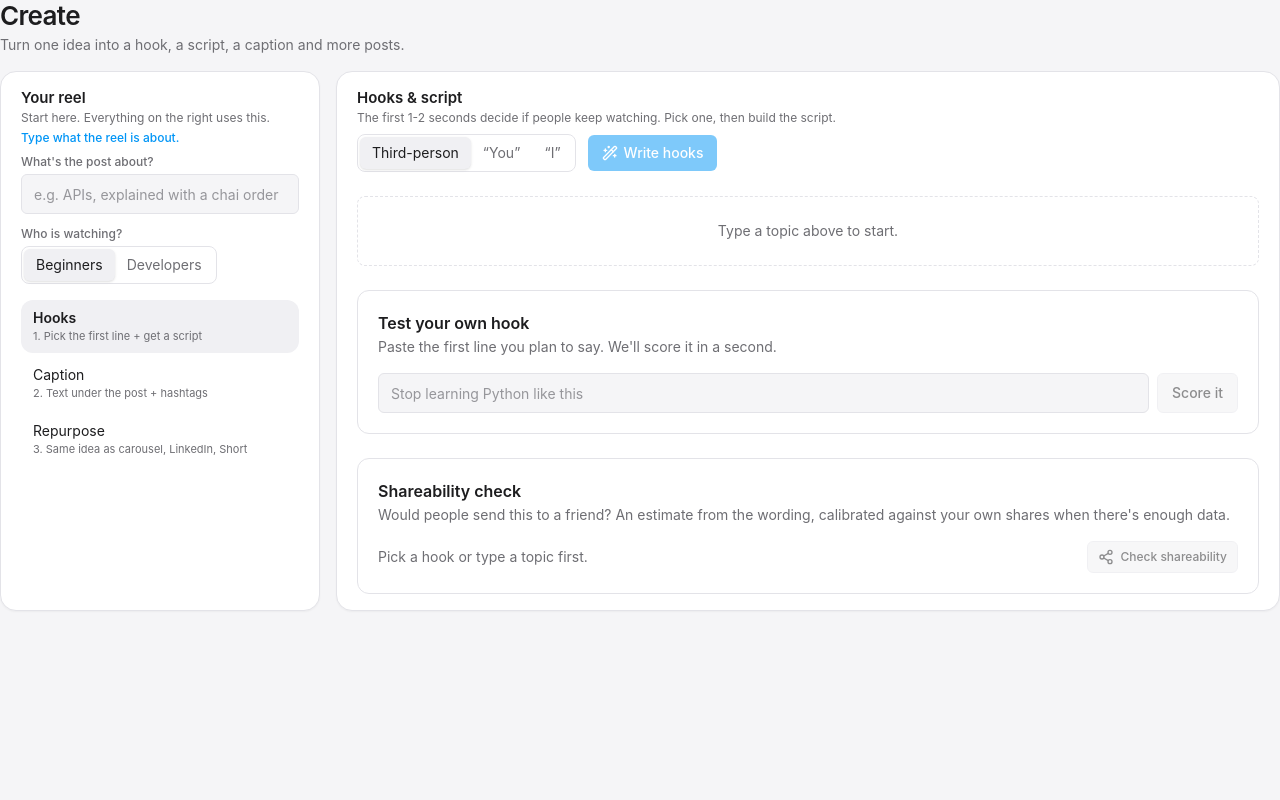
it: Create › renders hooks sorted by score; 'Use this' sets the hook used by Caption
The width and height of the screenshot is (1280, 800).
In the field labelled "What's the post about?": [160, 194] box [21,174,299,214], type "APIs"
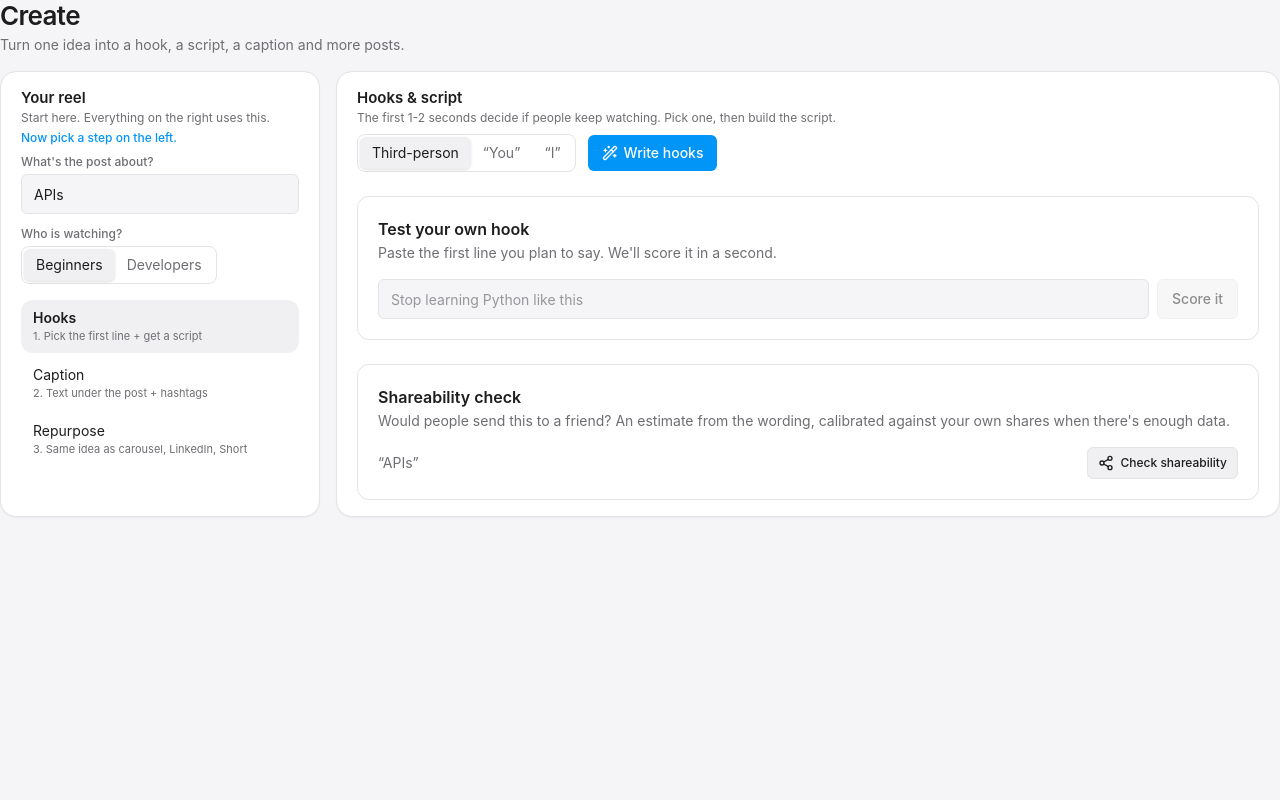
Click the button "Write hooks": [653, 153] box [588,135,718,171]
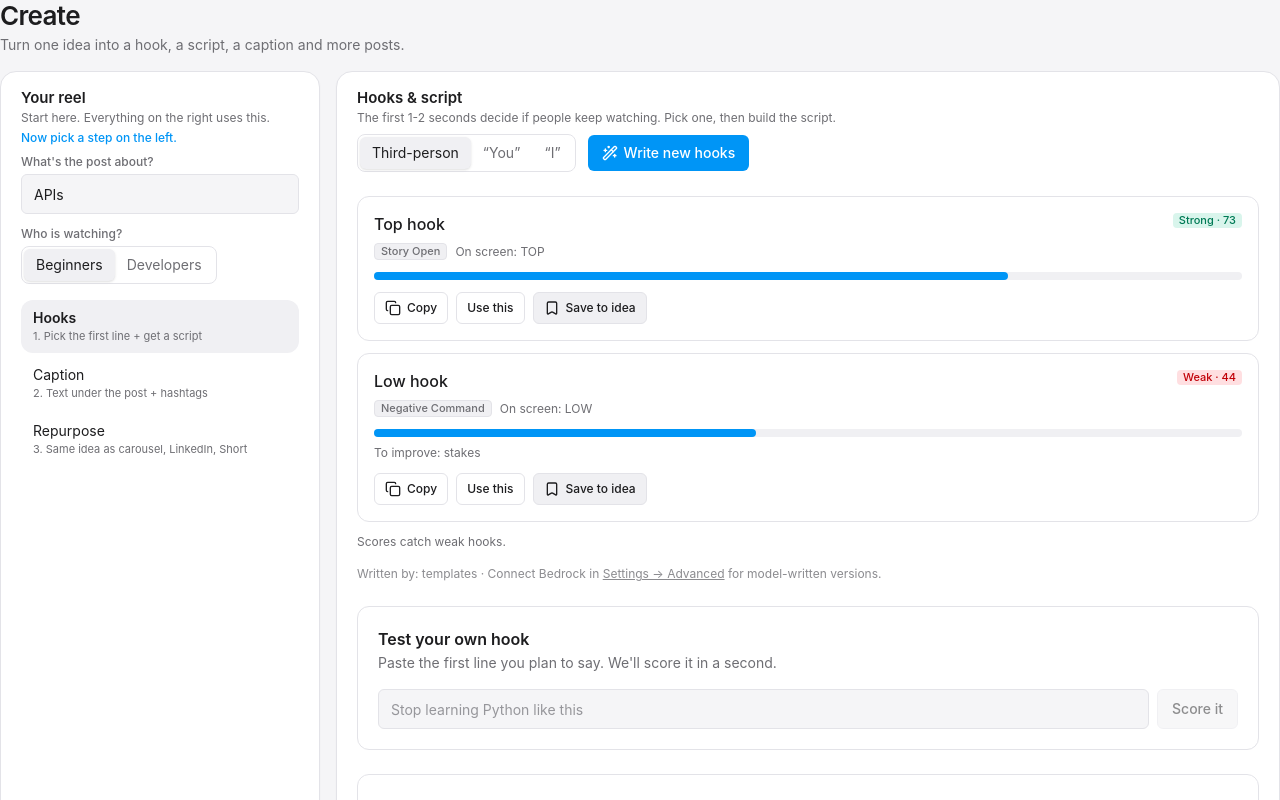
Now the list with test id "hook-list" is shown, box [357,196,1259,522]
Now the elements with test id "hook-text" read "Top hook", "Low hook", in this order, box [374,213,445,235]; [374,370,448,392]
Click the button "Use this" below "Top hook": [490, 308] box [456,292,524,324]
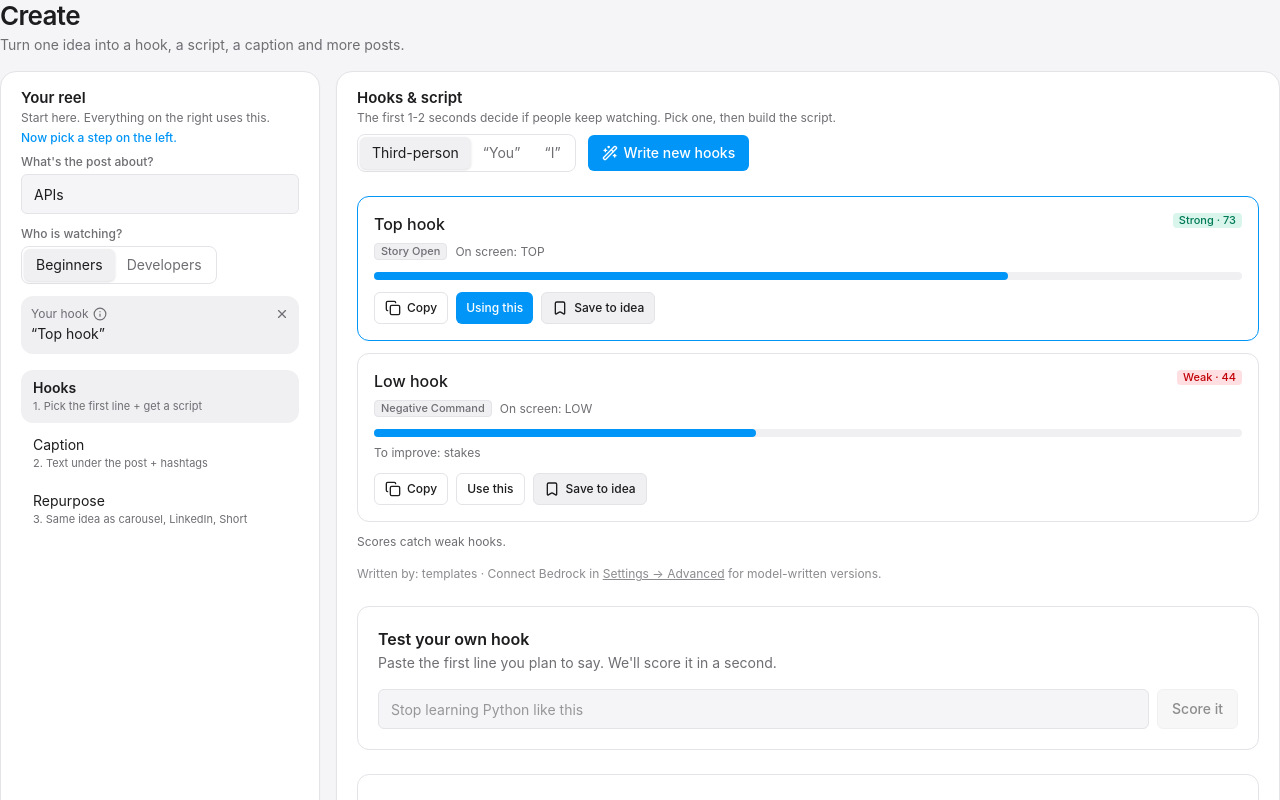
Click the tab "Caption": [160, 453] box [21,427,299,479]
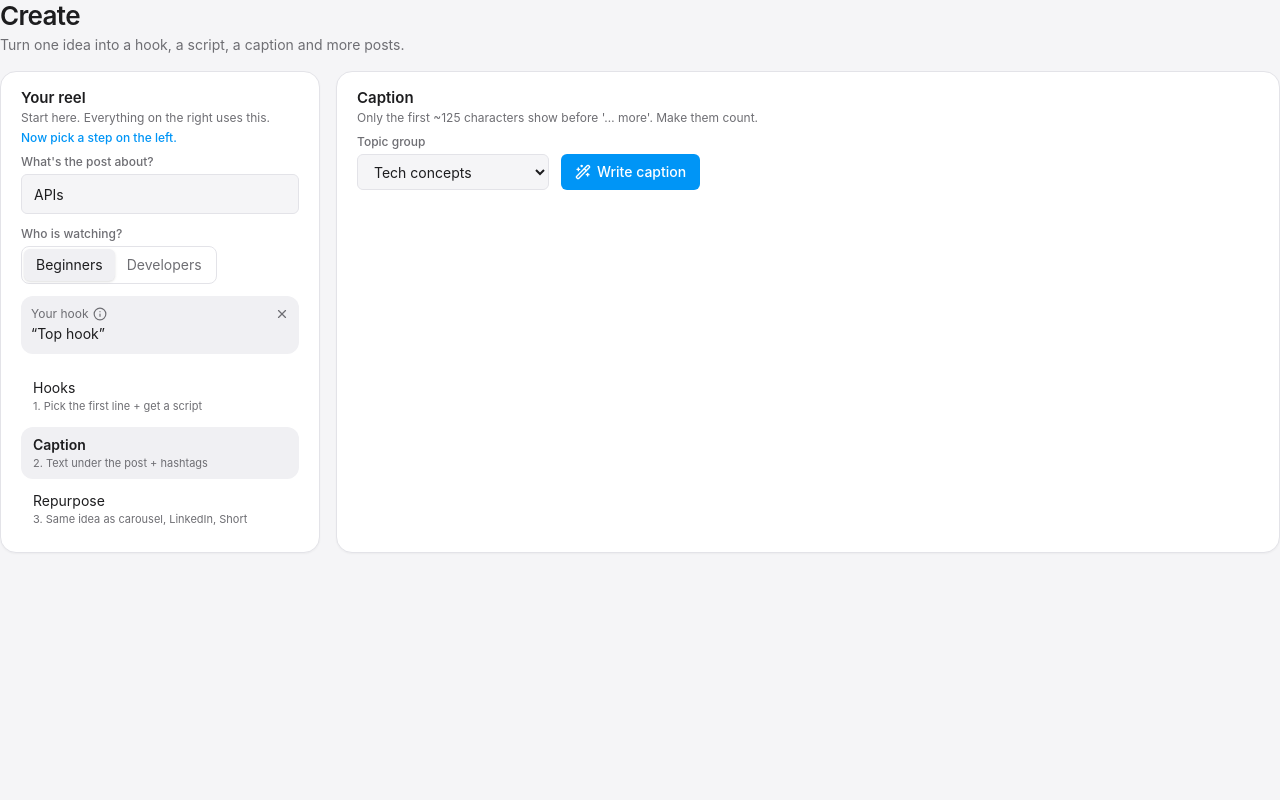
Click the button "Write caption": [631, 172] box [561,154,700,190]
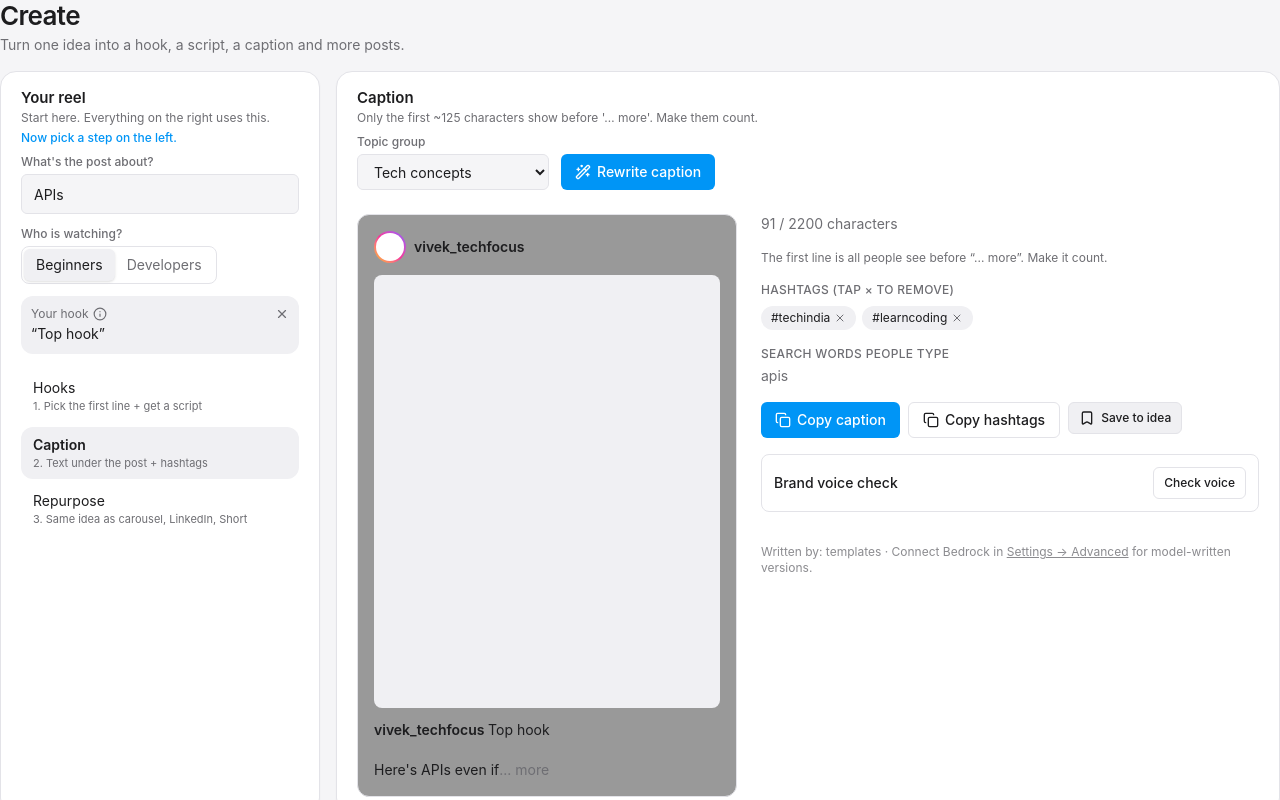
Now the element with test id "ig-preview" is shown, box [357,214,737,797]
